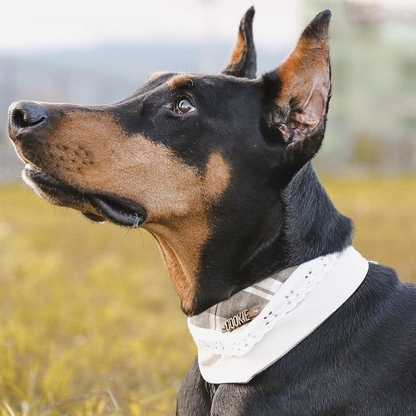doberman: (9, 4, 416, 412)
